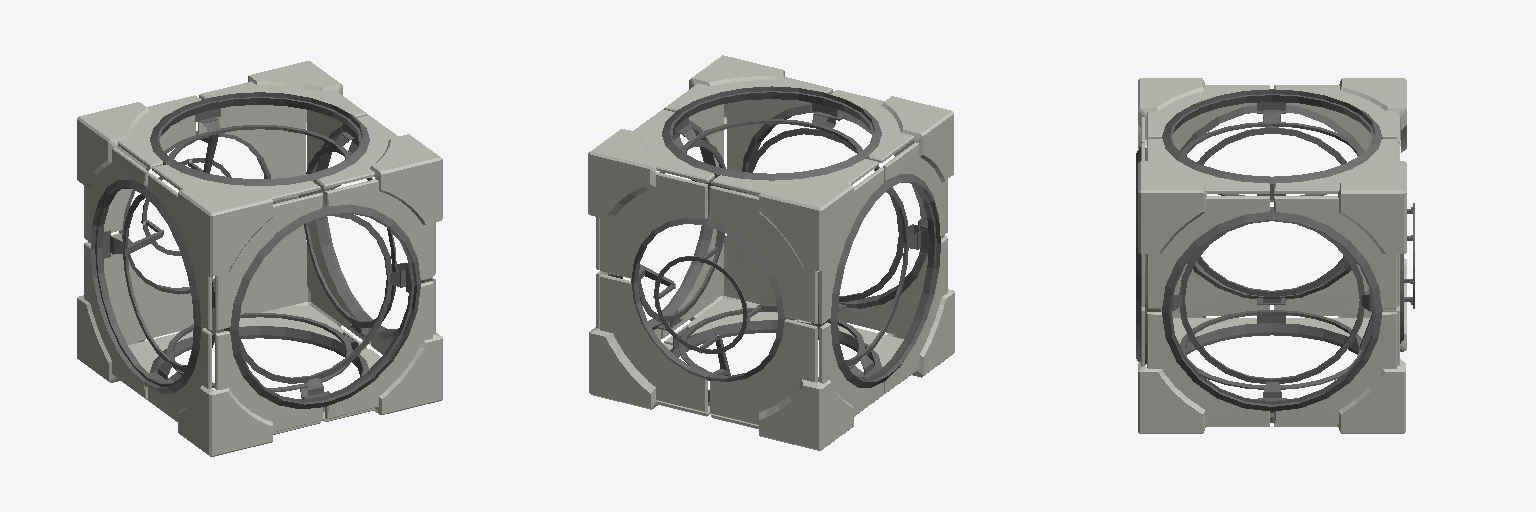
3 views of the same model, side by side, from view 1: azimuth 30°, elevation 25°; view 2: azimuth 150°, elevation 25°; view 3: azimuth 270°, elevation 25° (orthographic).
Parts seen in each view (by area): view 1: Body.dmx/cubelaser_model.dmx.mesh_0; view 2: Body.dmx/cubelaser_model.dmx.mesh_0; view 3: Body.dmx/cubelaser_model.dmx.mesh_0.
Boxes of the visible parts, box(x1,y1,x2,y2) form: Body.dmx/cubelaser_model.dmx.mesh_0: box(77, 61, 442, 456); Body.dmx/cubelaser_model.dmx.mesh_0: box(588, 55, 954, 450); Body.dmx/cubelaser_model.dmx.mesh_0: box(1136, 78, 1414, 433).
Bounding box in the file's own units: 40.01 × 40.01 × 42.31.
1 materials, 1 textured.